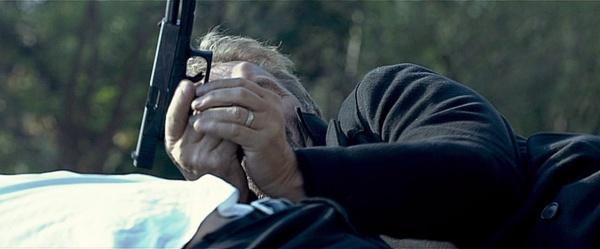Gun: (132, 0, 212, 181)
